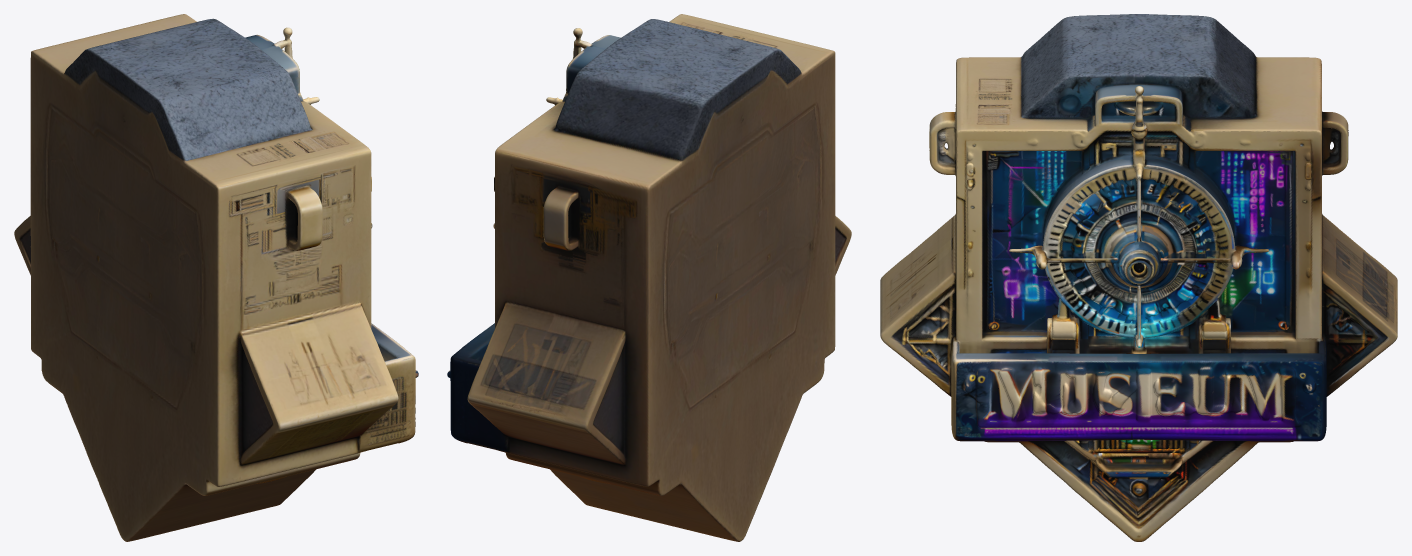
Rendered from museum sign 3d model.glb.
3 views of the same model, side by side, from view 1: azimuth 30°, elevation 25°; view 2: azimuth 150°, elevation 25°; view 3: azimuth 270°, elevation 25° (orthographic). The views are drawn at different scales.
Parts seen in each view (by area): view 1: tripo_node_e7861855-ab94-453a-83f2-dec8cf762106; view 2: tripo_node_e7861855-ab94-453a-83f2-dec8cf762106; view 3: tripo_node_e7861855-ab94-453a-83f2-dec8cf762106.
Part boxes in pixels (left/top/right/bottom): tripo_node_e7861855-ab94-453a-83f2-dec8cf762106: left=14, top=14, right=418, bottom=541; tripo_node_e7861855-ab94-453a-83f2-dec8cf762106: left=447, top=14, right=851, bottom=541; tripo_node_e7861855-ab94-453a-83f2-dec8cf762106: left=880, top=14, right=1397, bottom=541.
Bounding box in the file's own units: 0.4503 × 0.9827 × 1.
1 material, 1 textured.
